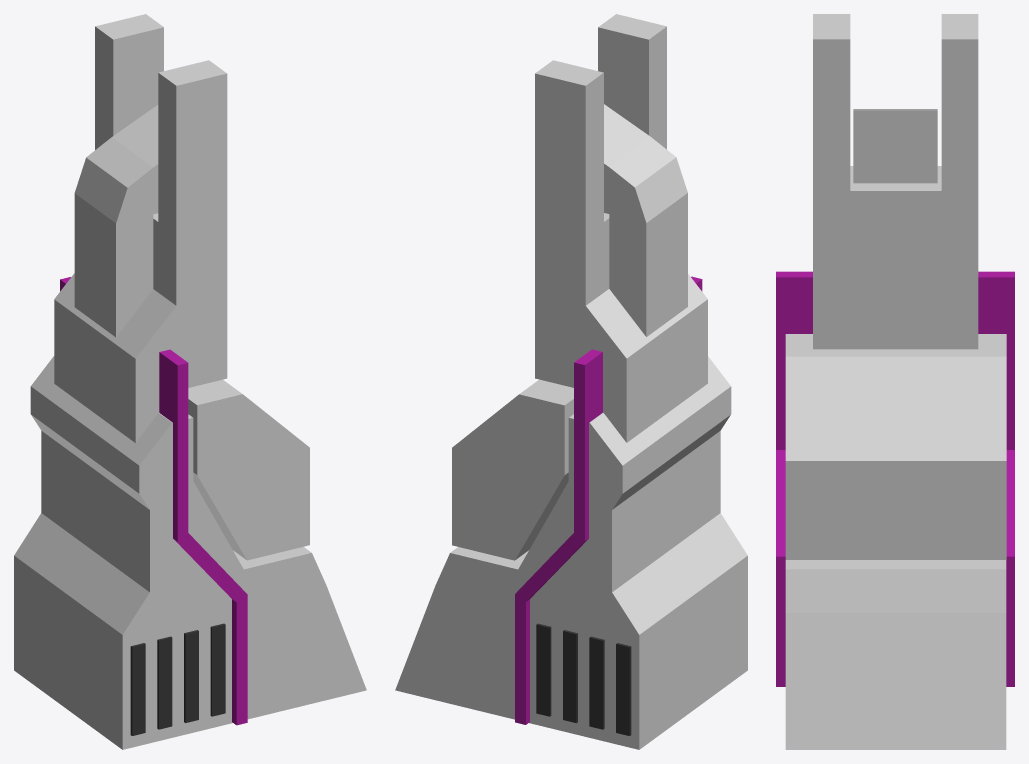
The model's file is buil01.dae.
3 views of the same model, side by side, from view 1: azimuth 30°, elevation 25°; view 2: azimuth 150°, elevation 25°; view 3: azimuth 270°, elevation 25° (orthographic).
Visible parts, largest first — view 1: building01-0; view 2: building01-0; view 3: building01-0.
Part boxes in pixels (x1,y1,x2,y2): building01-0: (14,14,366,749); building01-0: (395,14,747,749); building01-0: (776,14,1014,749).
Size of the model in its own units: 43.22 by 108 by 36.02.
